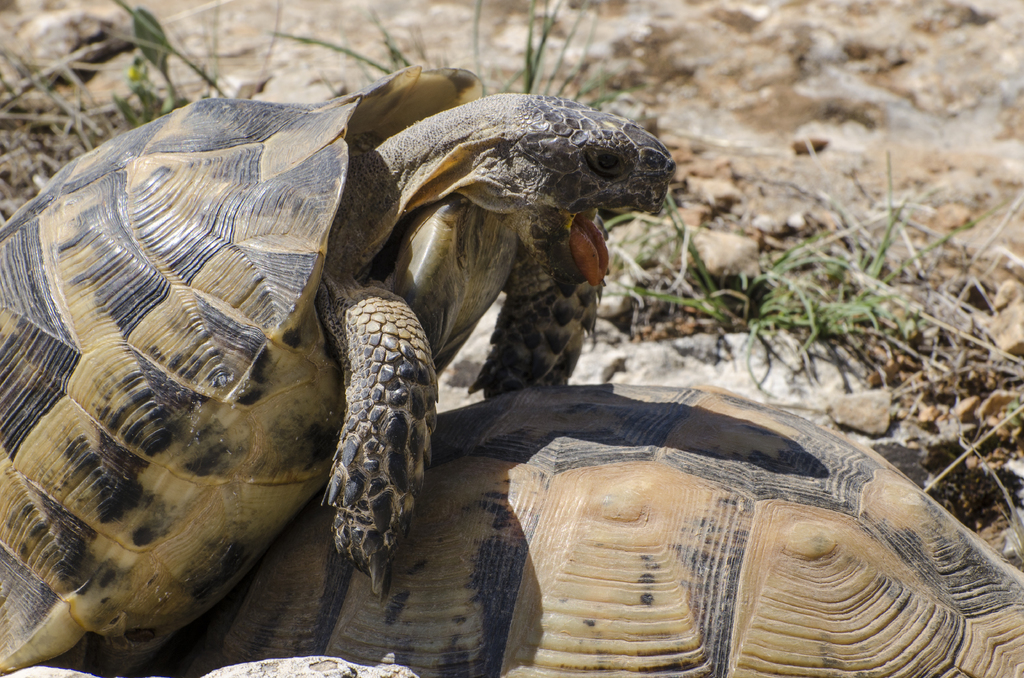Sea turtles: (0, 60, 678, 676), (145, 375, 1023, 677)
